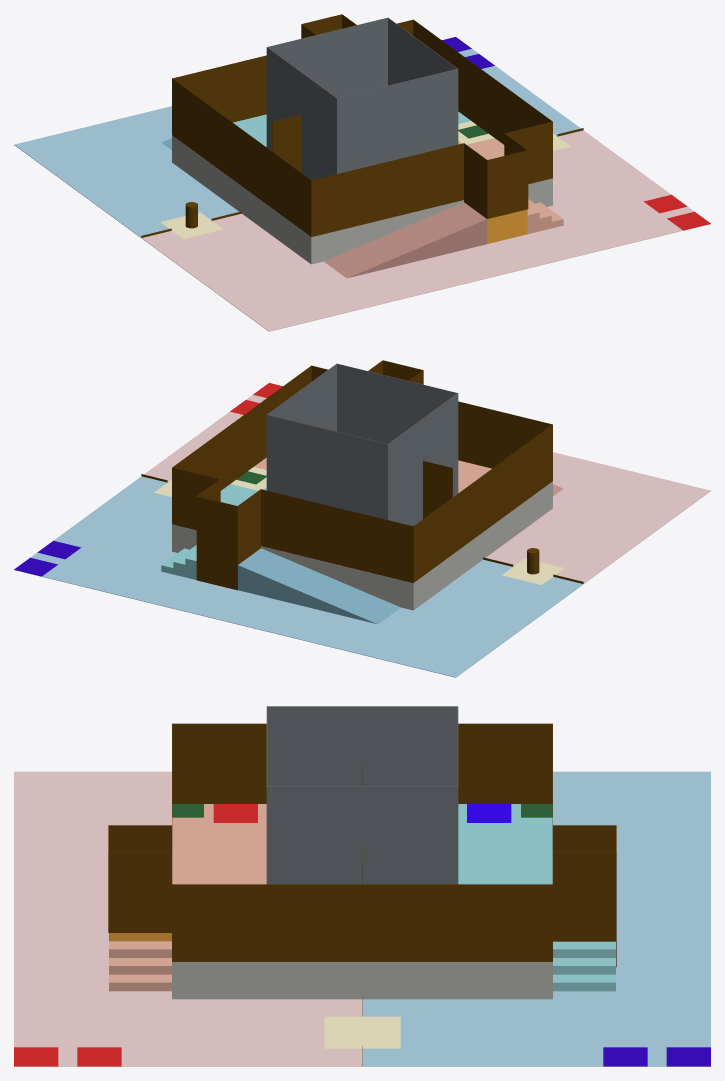
The model's file is robocon2027_level1_only.dae.
3 views of the same model, one above another, from view 1: azimuth 30°, elevation 25°; view 2: azimuth 150°, elevation 25°; view 3: azimuth 270°, elevation 25° (orthographic). The views are drawn at different scales.
Parts seen in each view (by area): view 1: node26, node6, node29, node7, node27, node1, node11, node12, node20, node8, node9, node0 (+2 smaller); view 2: node26, node7, node29, node6, node27, node3, node12, node11, node8, node10, node2, node14 (+1 smaller); view 3: node26, node6, node7, node29, node27, node14, node15, node11, node12, node0, node2, node8 (+6 smaller).
Boxes of the visible parts, x1=… form: node26: x1=141, y1=14, x2=583, y2=237; node6: x1=141, y1=130, x2=694, y2=321; node29: x1=266, y1=17, x2=458, y2=180; node7: x1=54, y1=49, x2=580, y2=237; node27: x1=172, y1=135, x2=552, y2=264; node1: x1=324, y1=202, x2=487, y2=278; node11: x1=222, y1=287, x2=309, y2=331; node12: x1=14, y1=135, x2=99, y2=178; node20: x1=487, y1=209, x2=527, y2=243; node8: x1=160, y1=133, x2=570, y2=238; node9: x1=643, y1=194, x2=710, y2=230; node0: x1=527, y1=199, x2=563, y2=233; node26: x1=141, y1=360, x2=583, y2=590; node7: x1=30, y1=476, x2=583, y2=667; node29: x1=266, y1=363, x2=458, y2=526; node6: x1=144, y1=395, x2=670, y2=583; node27: x1=172, y1=481, x2=552, y2=610; node3: x1=238, y1=548, x2=400, y2=624; node12: x1=415, y1=633, x2=502, y2=677; node11: x1=625, y1=481, x2=710, y2=524; node8: x1=154, y1=479, x2=564, y2=584; node10: x1=14, y1=540, x2=81, y2=576; node2: x1=161, y1=545, x2=196, y2=579; node14: x1=254, y1=457, x2=491, y2=492; node26: x1=108, y1=723, x2=616, y2=1065; node6: x1=14, y1=771, x2=362, y2=1066; node7: x1=362, y1=771, x2=710, y2=1066; node29: x1=266, y1=706, x2=458, y2=884; node27: x1=172, y1=962, x2=552, y2=999; node14: x1=172, y1=804, x2=266, y2=884; node15: x1=458, y1=804, x2=552, y2=884; node11: x1=14, y1=771, x2=140, y2=798; node12: x1=584, y1=771, x2=710, y2=798; node0: x1=109, y1=941, x2=171, y2=991; node2: x1=553, y1=941, x2=615, y2=991; node8: x1=324, y1=1016, x2=400, y2=1048.
Size of the model in its own units: 11 by 11 by 3.01.
